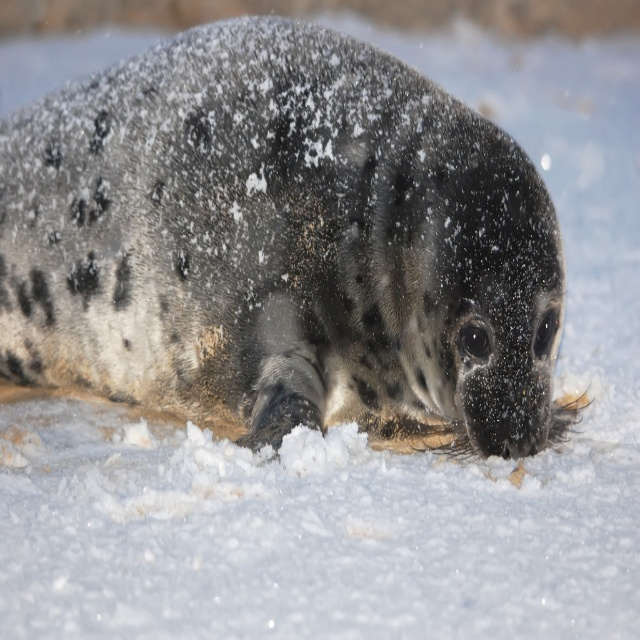Harbor seal: (0, 6, 598, 458)
